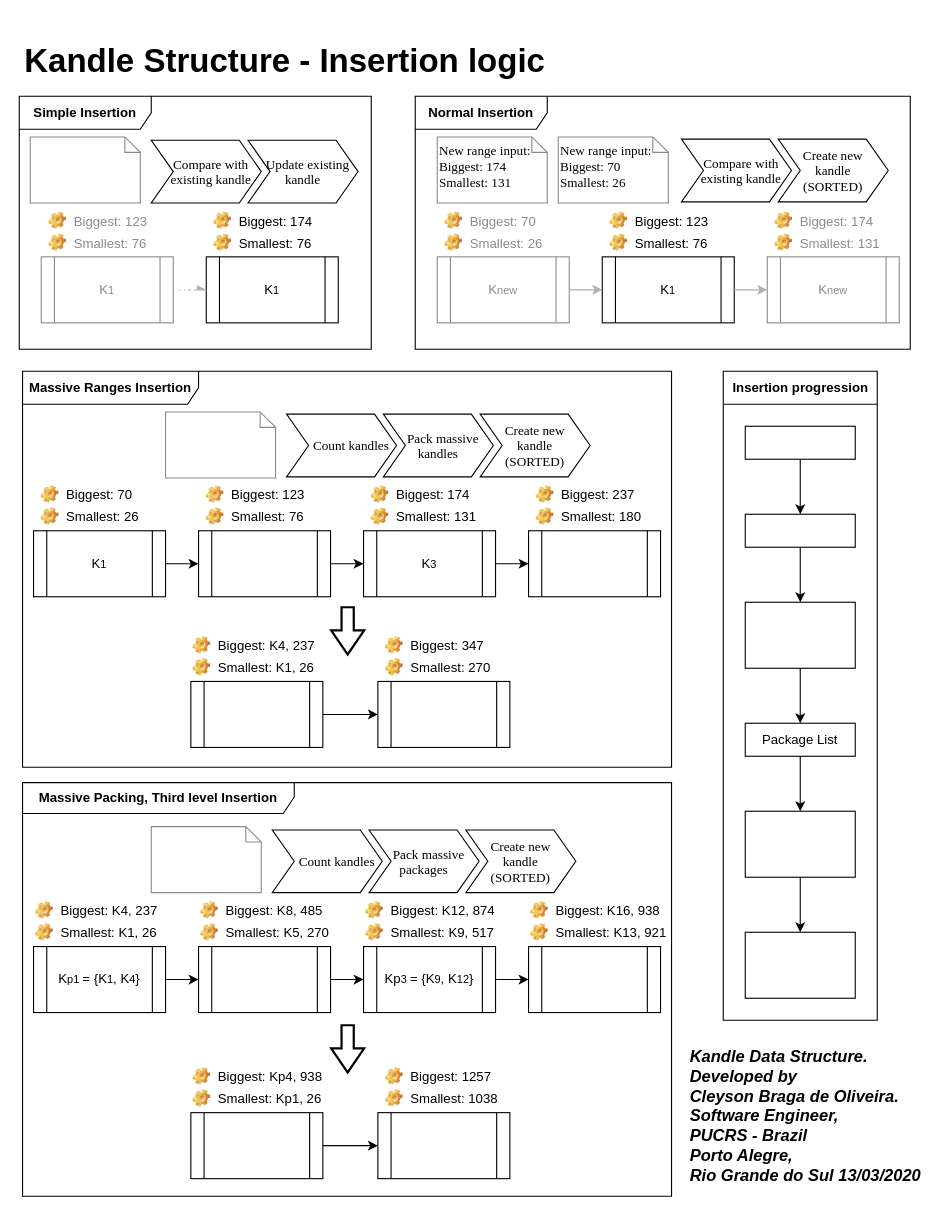
This 942x1216 diagram has some shape labels left out. Here are the shapes that lost their labels. From the top down, the centre of each, then its label:
At pixel 84 169: "New range input: Biggest: 174 Smallest: 111".
At pixel 220 444: "New range input: Biggest: 347 Smallest: 270".
At pixel 799 442: "Kandle".
At pixel 799 530: "Kandle List".
At pixel 264 563: "K 2".
At pixel 594 563: "K 4".
At pixel 799 634: "Package + Kandle List".
At pixel 256 713: "K p = {K 1 , K 4 }".
At pixel 443 713: "K 5".
At pixel 205 859: "New range input: Biggest: 1257 Smallest: 1038".
At pixel 799 843: "Package List + Kandle List".
At pixel 264 979: "Kp 2 = {K 5 , K 8 }".
At pixel 594 979: "Kp 4 = {K 13, K16 }".
At pixel 799 964: "Containers".
At pixel 256 1145: "Kk p = {Kp 1 , Kp 4 }".
At pixel 443 1145: "K 17".
